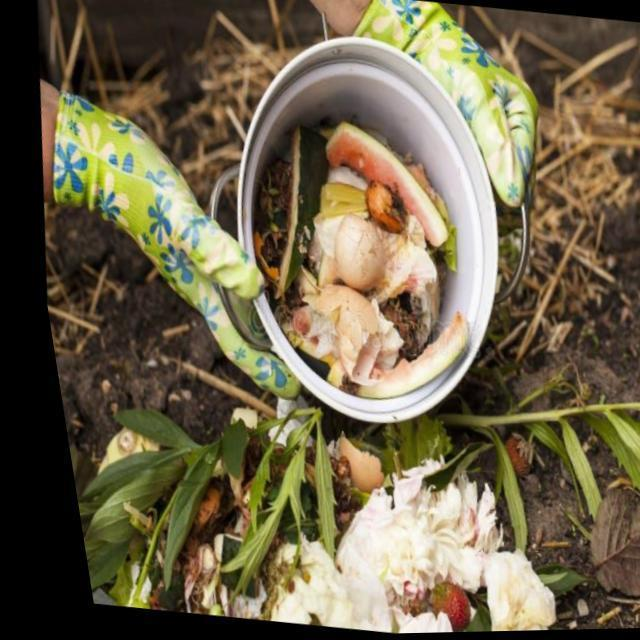Garbage: (243, 109, 457, 401)
